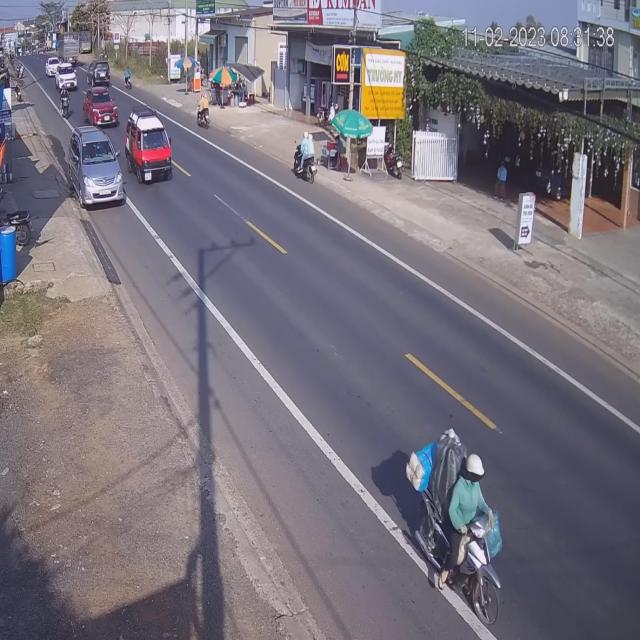car: (68, 125, 126, 208), (125, 112, 173, 184), (84, 87, 120, 129), (58, 62, 78, 91), (90, 59, 107, 85), (60, 89, 70, 119), (46, 56, 58, 80)
motorbike: (414, 430, 502, 636), (293, 132, 316, 185), (197, 96, 212, 129)
truck: (55, 31, 77, 61)
